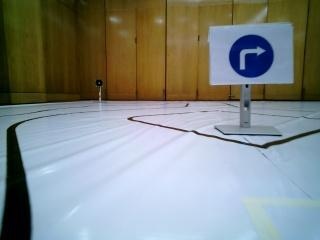right: (216, 31, 284, 79)
